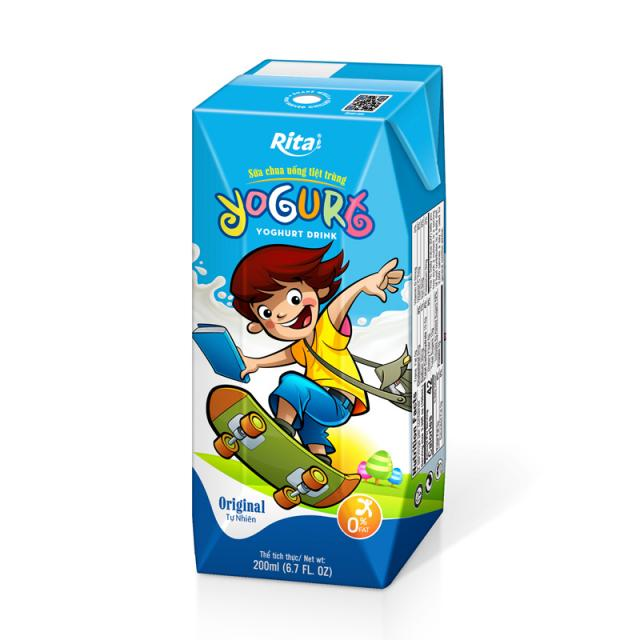non_white_jug: (178, 28, 460, 603)
